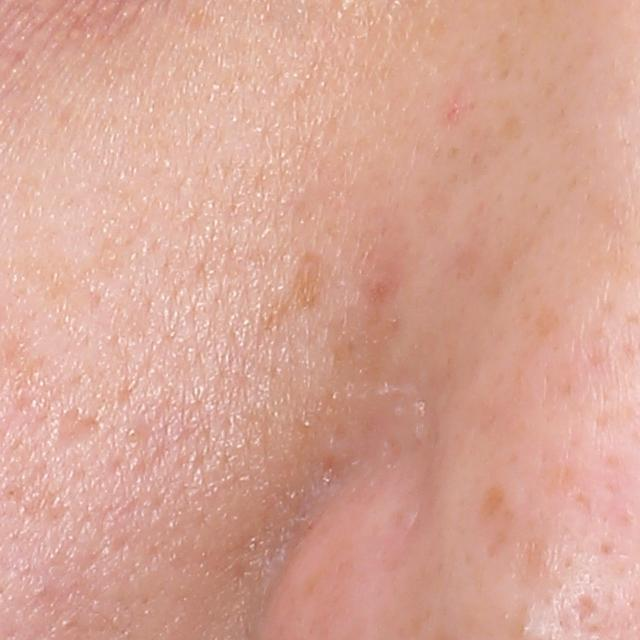atrophic_scar: (58, 408, 98, 452), (568, 590, 598, 624)
melasma: (271, 252, 325, 333), (476, 477, 512, 522)
